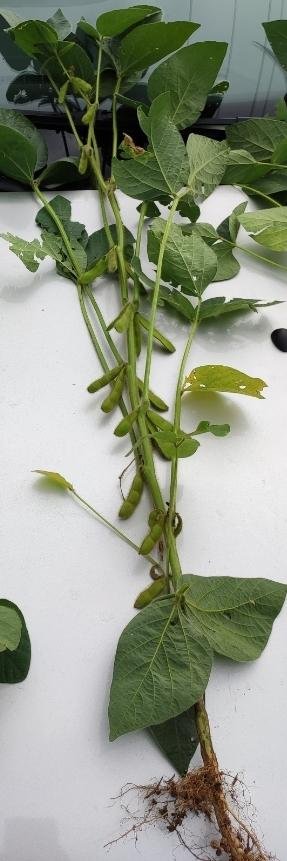soja: (137, 309, 180, 361), (114, 476, 151, 526), (93, 375, 131, 419), (133, 377, 174, 417), (81, 366, 130, 398), (130, 521, 173, 557), (131, 578, 170, 616), (107, 414, 145, 444), (79, 258, 110, 291), (114, 304, 139, 336), (75, 101, 101, 129), (102, 248, 128, 271), (72, 71, 97, 93), (77, 152, 92, 175), (57, 83, 71, 103)
